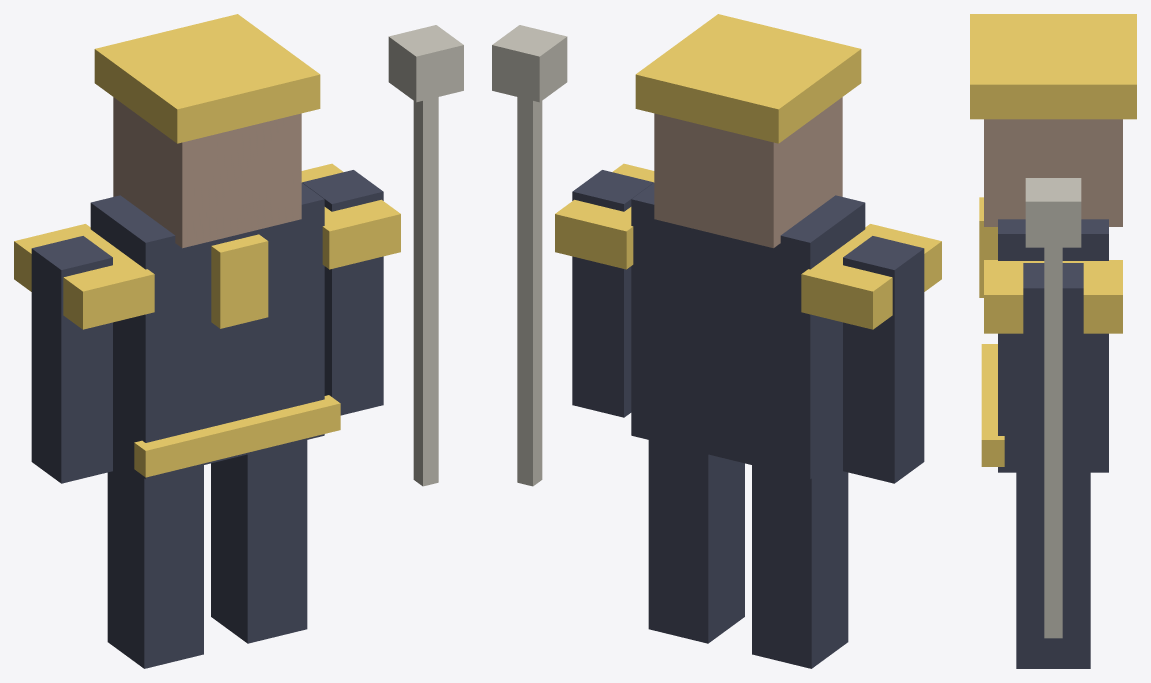
File: 05_calder_emberkin_herald_near_drone.glb
The picture shows the model from 3 angles, left to right: view 1: azimuth 30°, elevation 25°; view 2: azimuth 150°, elevation 25°; view 3: azimuth 270°, elevation 25°; orthographic projection.
Parts seen in each view (by area): view 1: Calder Emberkin, Herald near Drone; view 2: Calder Emberkin, Herald near Drone; view 3: Calder Emberkin, Herald near Drone.
Boxes of the visible parts, x1=… form: Calder Emberkin, Herald near Drone: x1=14, y1=14, x2=463, y2=668; Calder Emberkin, Herald near Drone: x1=492, y1=14, x2=941, y2=668; Calder Emberkin, Herald near Drone: x1=970, y1=14, x2=1136, y2=668.
Bounding box in the file's own units: 1.04 × 1.41 × 0.3679.
